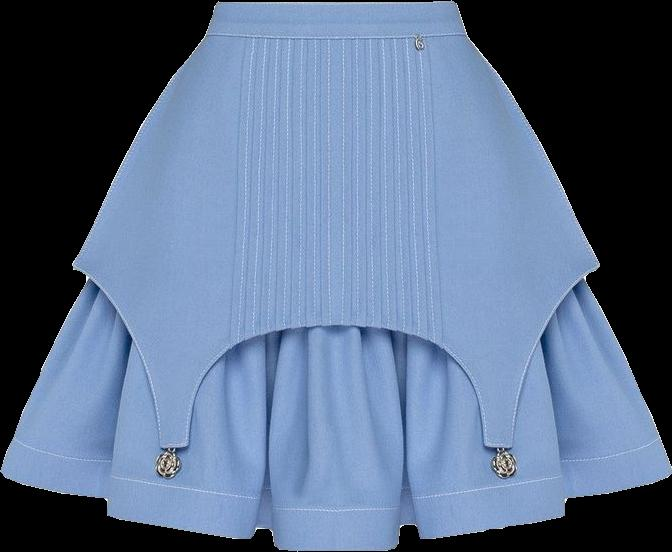Hemline: (71, 261, 602, 451), (0, 466, 671, 551)
Waistline: (204, 31, 468, 41), (214, 0, 456, 8)
